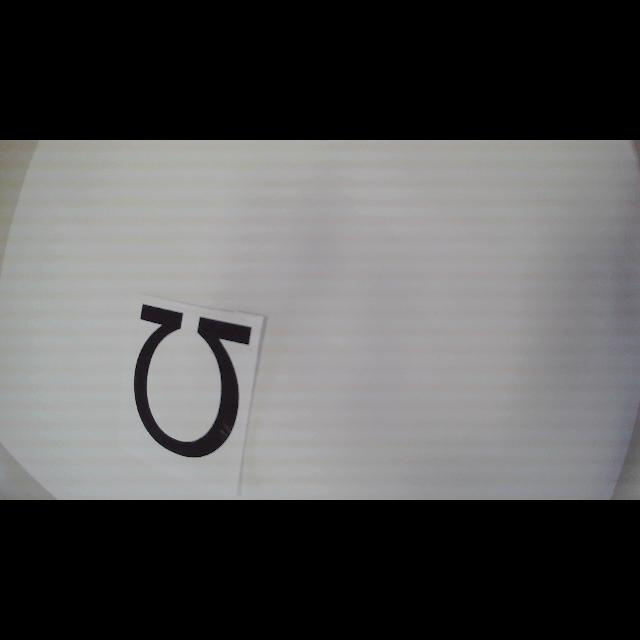OMEGA: (134, 304, 252, 458)
